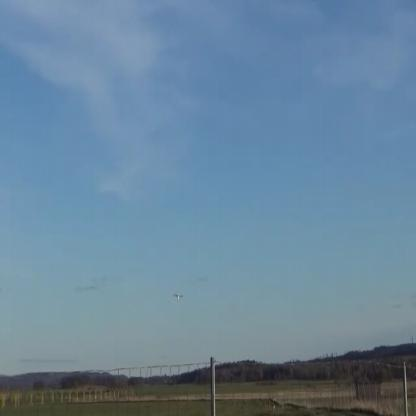plane: (170, 290, 186, 302)
